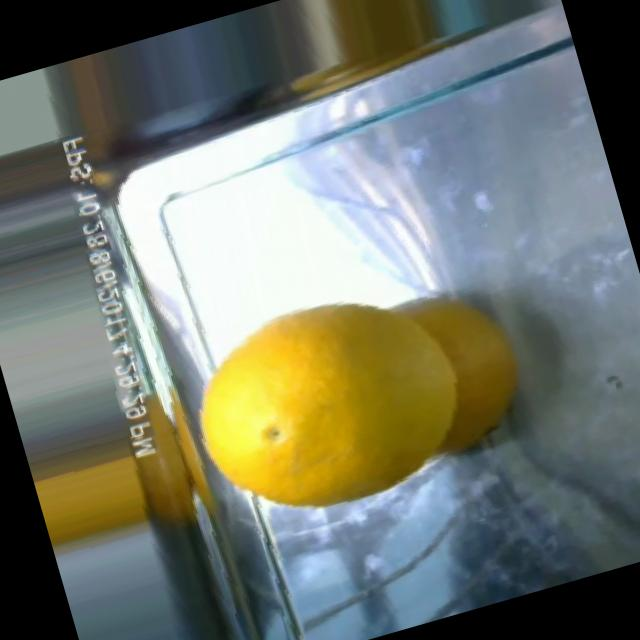Fruit: (329, 249, 566, 488)
